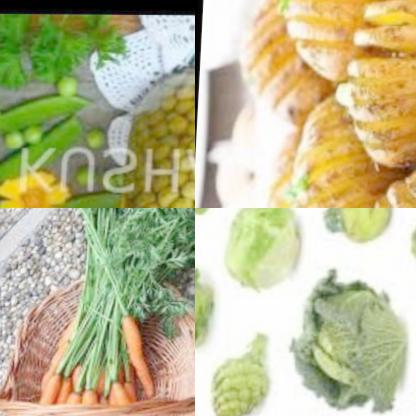broccoli: (400, 208, 416, 312)
cabbage: (277, 269, 411, 416), (220, 208, 302, 306), (195, 208, 265, 266)
carrot: (31, 352, 172, 416)
cayliflower: (195, 251, 221, 368)
peas: (127, 73, 195, 208), (57, 64, 93, 100), (9, 124, 52, 153), (83, 123, 116, 155), (79, 165, 106, 191)
potato: (284, 79, 383, 208), (343, 0, 416, 174), (233, 0, 330, 127), (270, 0, 404, 91), (262, 121, 348, 208)
